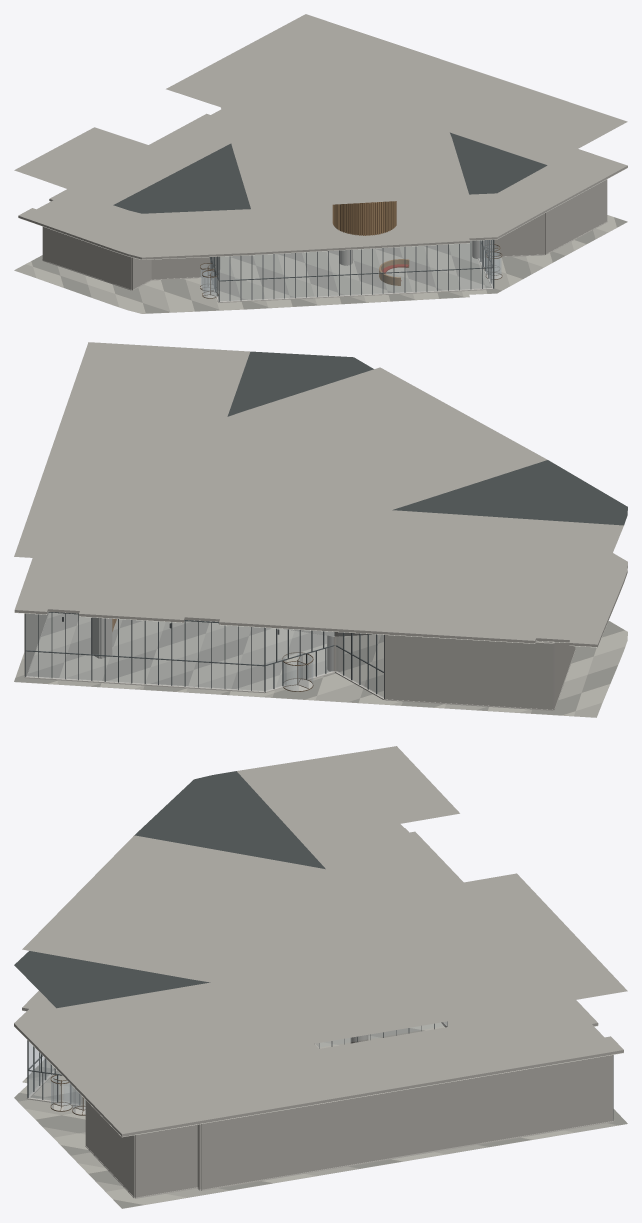
File: mar-interior-d3c11f99bdde.glb
3 renders of one model, top to bottom at view 1: azimuth 30°, elevation 25°; view 2: azimuth 150°, elevation 25°; view 3: azimuth 270°, elevation 25°, orthographic. The views are drawn at different scales.
Visible parts, largest first — view 1: MAR.001; view 2: MAR.001; view 3: MAR.001.
Boxes of the visible parts, <box> form: MAR.001: <box>14,14,627,313</box>; MAR.001: <box>14,342,627,717</box>; MAR.001: <box>14,746,627,1208</box>.
Bounding box in the file's own units: 67.69 × 12.73 × 53.21.
